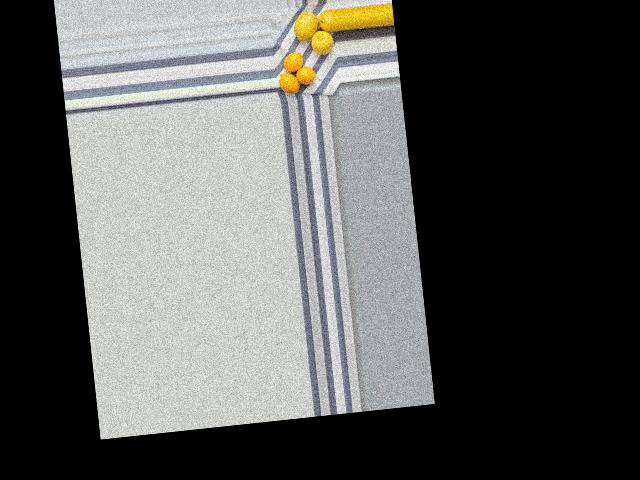lemon: (278, 71, 300, 95)
